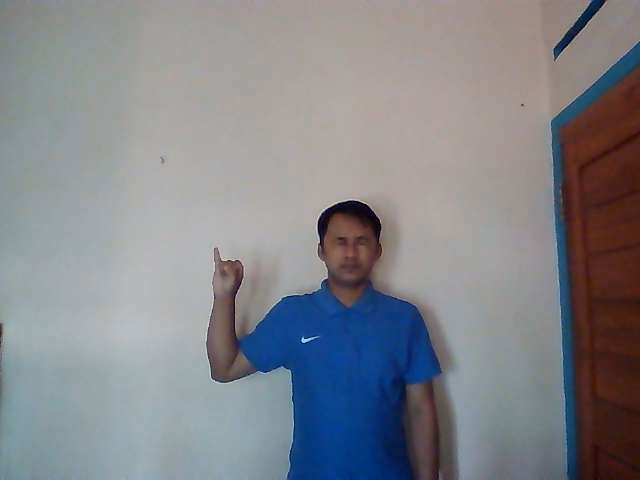I: (210, 244, 245, 293)
